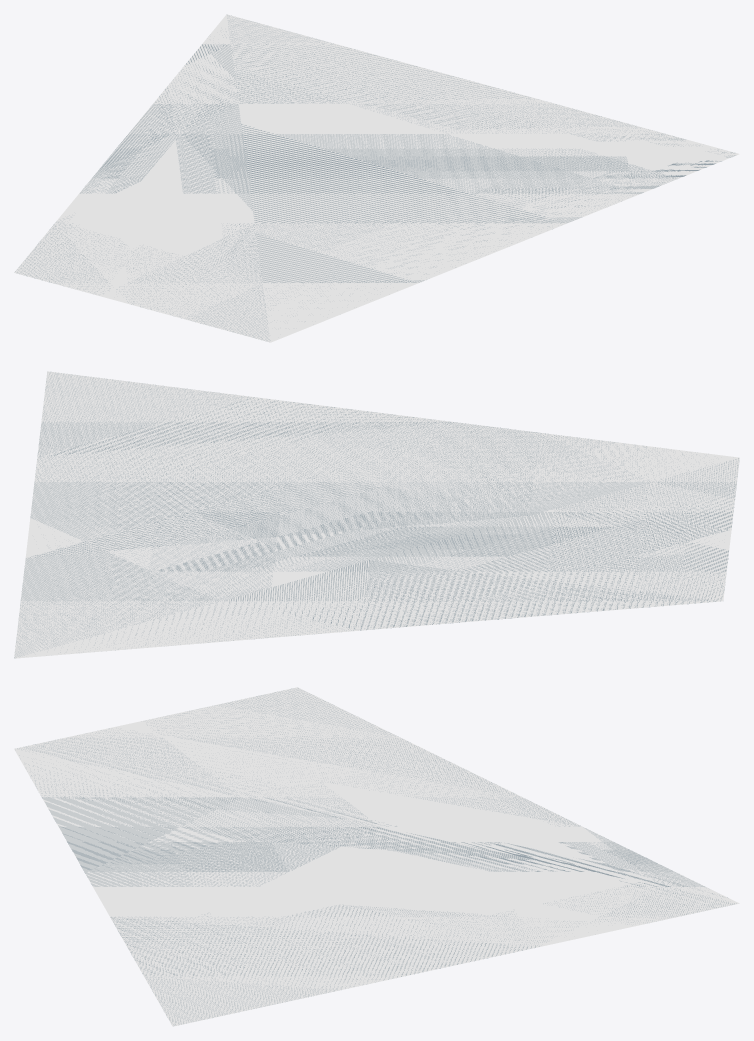
3 renders of one model, top to bottom at view 1: azimuth 30°, elevation 25°; view 2: azimuth 150°, elevation 25°; view 3: azimuth 270°, elevation 25°, orthographic. The views are drawn at different scales.
Visible parts, largest first — view 1: Group1; view 2: Group1; view 3: Group1.
Boxes of the visible parts, x1,y1,x2,y2 form: Group1: (14,14,739,342); Group1: (14,371,739,658); Group1: (14,687,739,1026).
Bounding box in the file's own units: 5.04 × 0 × 4.55.
